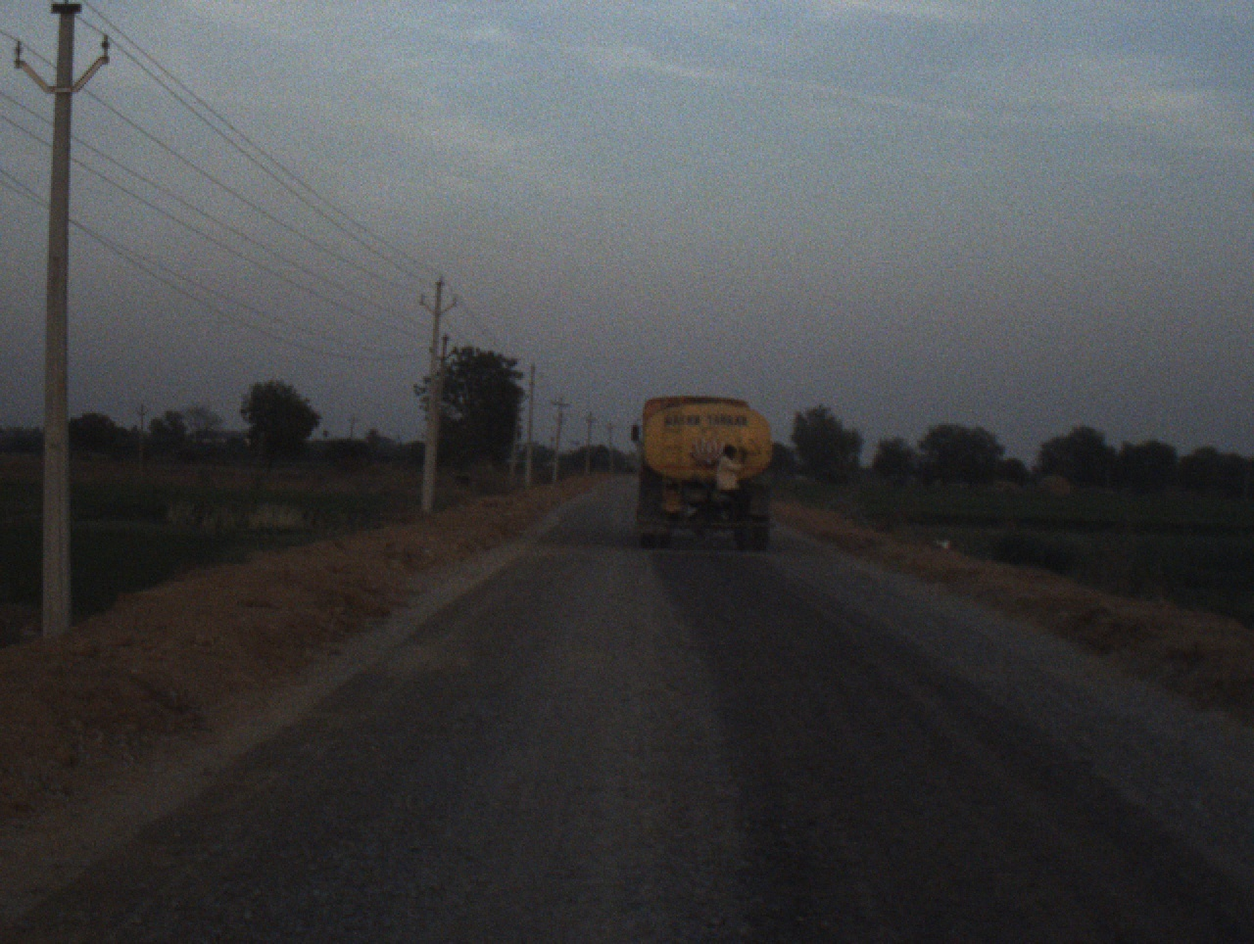person: (716, 432, 754, 534)
truck: (627, 380, 778, 558)
